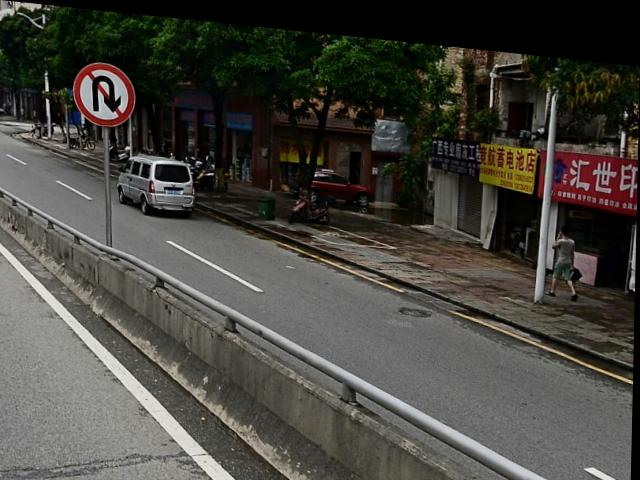not_u_turn_right: (69, 57, 146, 131)
